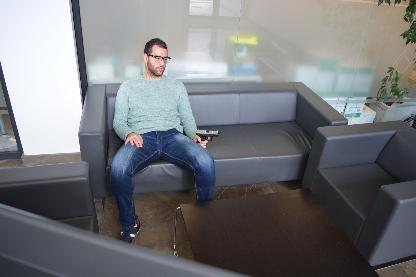pistol: (195, 128, 219, 142)
